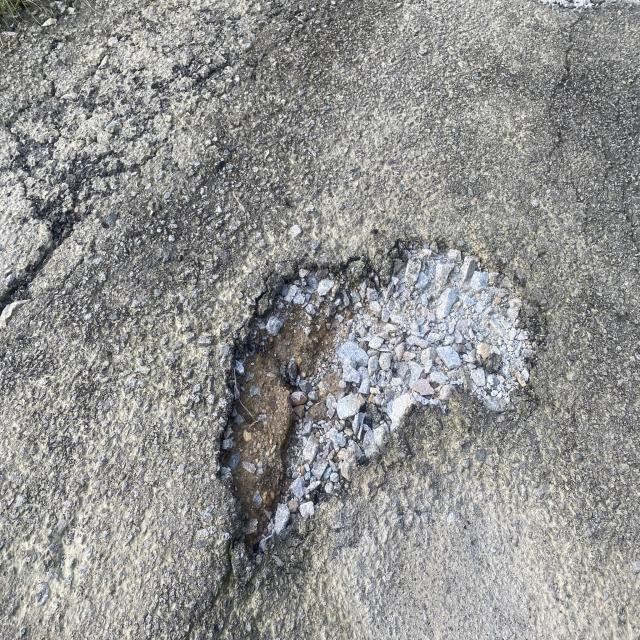Pothole: (194, 196, 552, 560)
